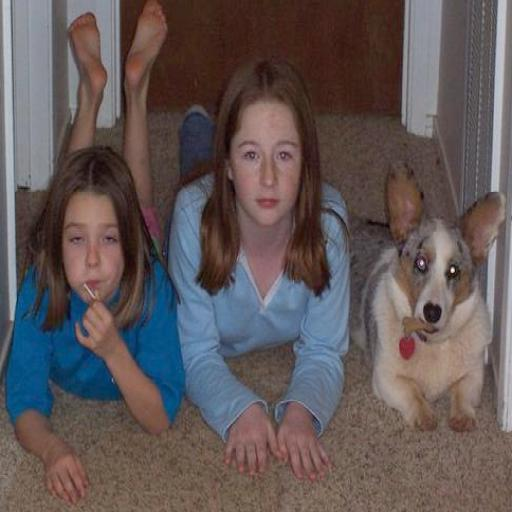dog_face: (382, 161, 508, 337)
